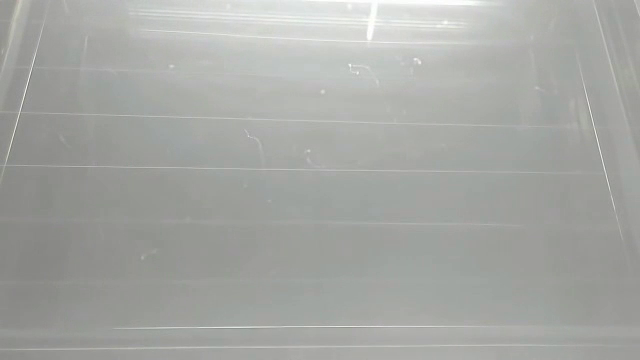alpha: (363, 1, 380, 43)
